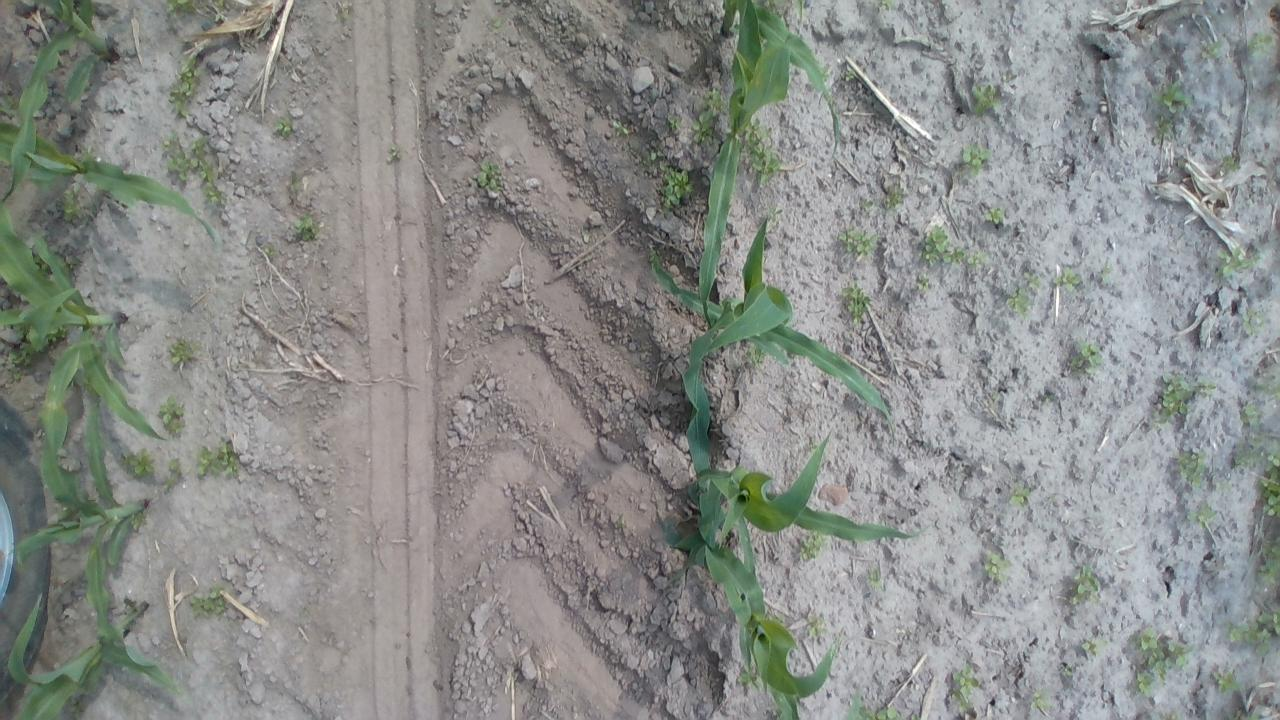Maize: (11, 344, 183, 694), (651, 220, 896, 448), (0, 205, 170, 444), (662, 427, 929, 566), (694, 0, 806, 326), (669, 540, 848, 720), (0, 122, 219, 249), (1, 0, 120, 192), (0, 593, 149, 720), (716, 0, 840, 150)
Weeds: (160, 132, 228, 202), (1124, 628, 1194, 694), (1147, 374, 1220, 430), (740, 120, 781, 186), (1225, 606, 1280, 652), (168, 56, 206, 118), (692, 88, 728, 145), (1214, 242, 1268, 279), (652, 165, 694, 210), (0, 324, 35, 377), (194, 441, 241, 480), (1257, 445, 1280, 520), (918, 223, 958, 265), (836, 224, 881, 260), (190, 586, 232, 623), (949, 662, 980, 712), (163, 0, 230, 23), (1152, 80, 1194, 116), (1174, 448, 1208, 492), (967, 80, 1002, 121), (1065, 338, 1103, 375), (1070, 564, 1103, 606), (155, 394, 188, 436), (842, 282, 872, 326), (846, 698, 906, 720), (960, 140, 994, 178), (58, 188, 92, 226), (167, 336, 200, 372), (1256, 538, 1280, 586), (290, 210, 324, 242), (1233, 438, 1266, 470), (981, 548, 1014, 580), (1003, 282, 1033, 317), (121, 450, 156, 479), (474, 162, 504, 194), (1184, 500, 1218, 528), (1244, 32, 1279, 59), (798, 530, 828, 560), (1054, 266, 1084, 294), (1151, 112, 1179, 142), (1240, 306, 1266, 338), (1257, 366, 1280, 402), (1236, 400, 1263, 429), (734, 666, 764, 692), (884, 182, 911, 210), (1212, 667, 1240, 693), (804, 611, 828, 641), (1009, 480, 1033, 508), (270, 113, 295, 138), (1218, 150, 1242, 176), (610, 116, 634, 142), (1080, 635, 1108, 657), (43, 324, 69, 346), (1222, 705, 1260, 720), (642, 140, 666, 163), (1030, 688, 1052, 712), (748, 344, 770, 368), (166, 456, 182, 488), (958, 251, 988, 267), (1200, 41, 1222, 62), (984, 204, 1006, 225), (580, 225, 604, 244), (1024, 270, 1042, 294), (868, 0, 900, 13), (31, 255, 50, 276), (664, 112, 682, 134), (865, 568, 883, 590), (288, 176, 304, 200), (332, 1, 351, 21), (385, 142, 404, 162), (915, 274, 933, 294), (78, 148, 99, 165), (70, 698, 86, 720), (858, 195, 878, 212), (1096, 264, 1112, 284), (132, 514, 150, 531), (258, 241, 278, 256), (840, 66, 856, 84), (1214, 477, 1230, 494), (488, 16, 503, 34), (646, 241, 659, 261), (1060, 664, 1074, 676), (614, 520, 624, 531), (1171, 714, 1186, 720)
